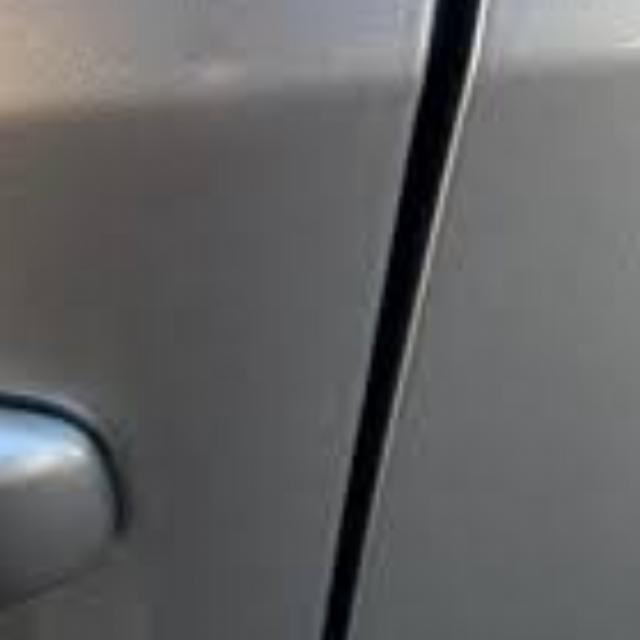dents: (142, 24, 283, 121)
